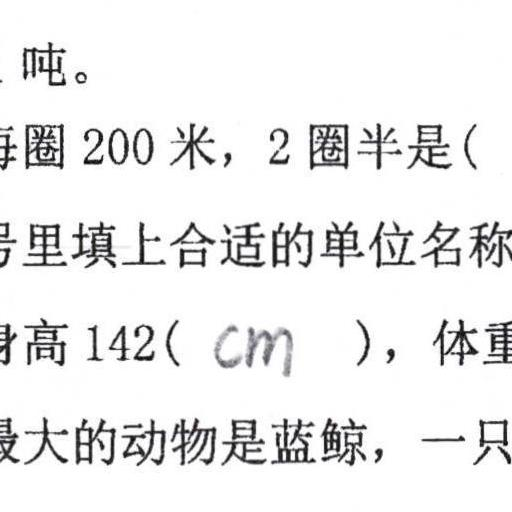ans: (209, 315, 296, 378)
